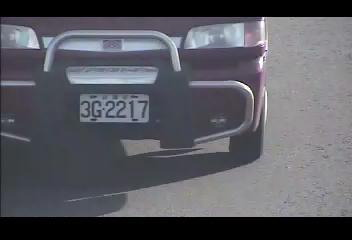plate: (76, 92, 151, 124)
